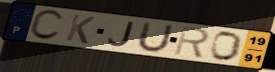C: (28, 9, 66, 42)
J: (106, 20, 136, 48)
K: (63, 13, 97, 46)
O: (209, 31, 245, 63)
R: (173, 25, 212, 59)
U: (134, 20, 176, 54)
